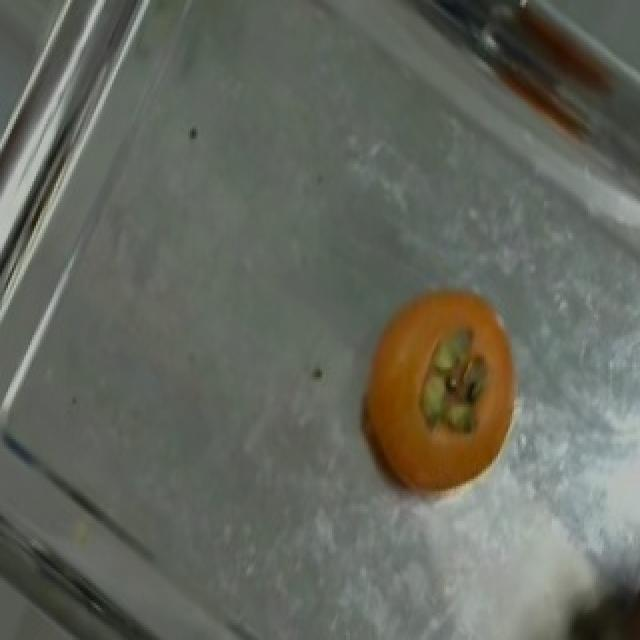Fruit: (338, 268, 538, 511)
